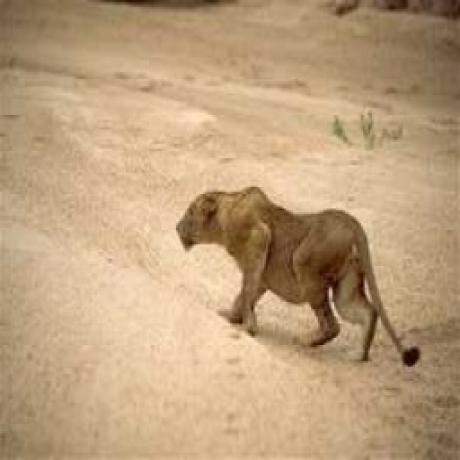Lion: (175, 186, 420, 364)
